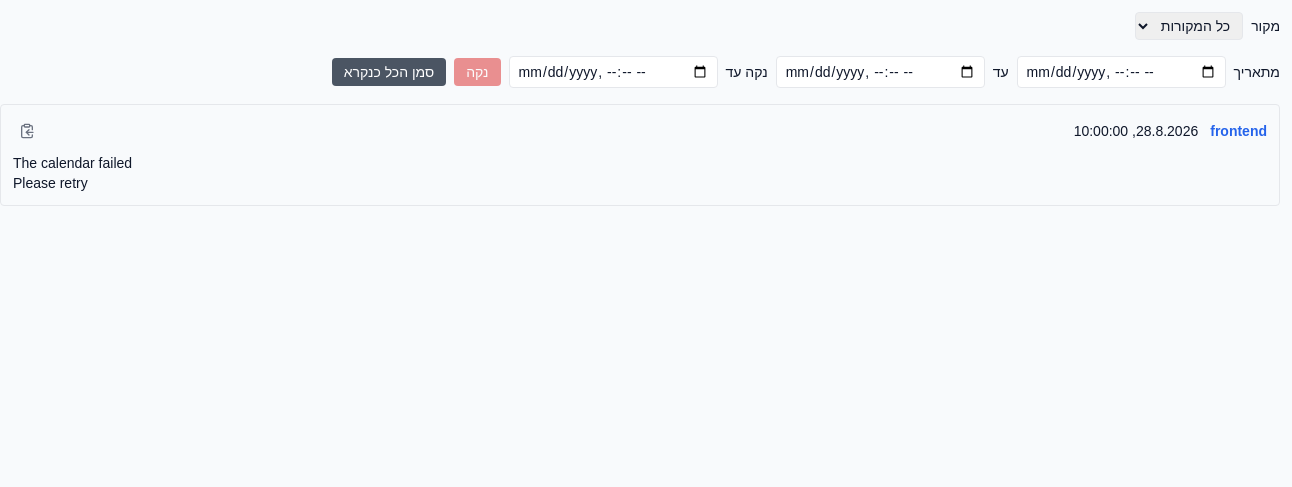
Test case: shows the frontend message before opening the error
The image size is (1292, 487).
Expected: the text "Frontend error" is not shown
Step 1. Click the text with test id "admin-error-message-trace-message" → (73, 173), box [13,155,132,191]
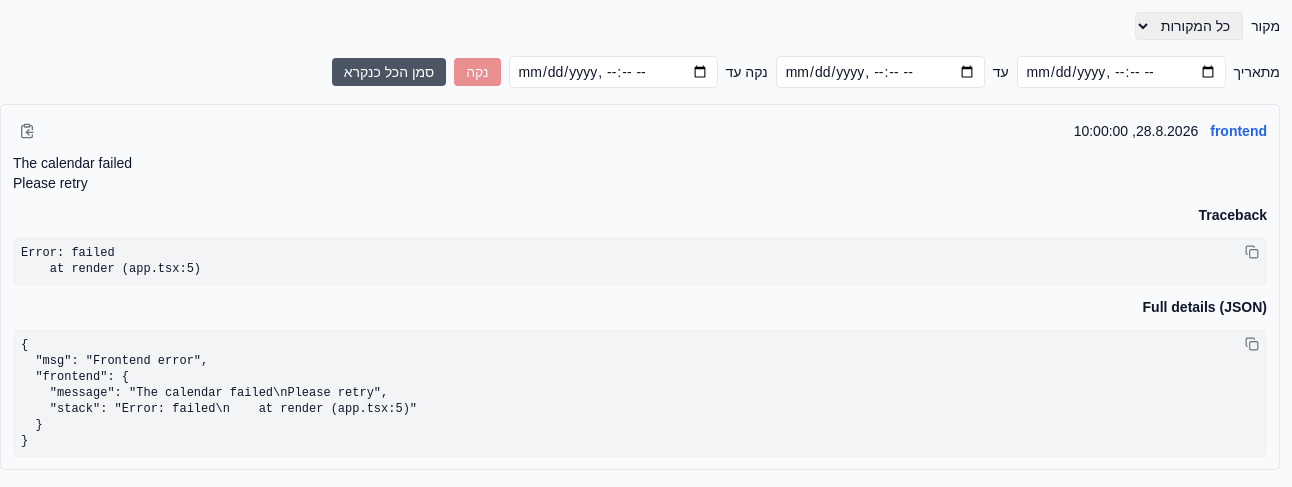
Expected: the text with test id "admin-error-stack-trace-message" shows "Error: failed", [21,246,201,276]
Step 2. Click the text with test id "admin-error-message-trace-message" → (73, 173), box [13,155,132,191]
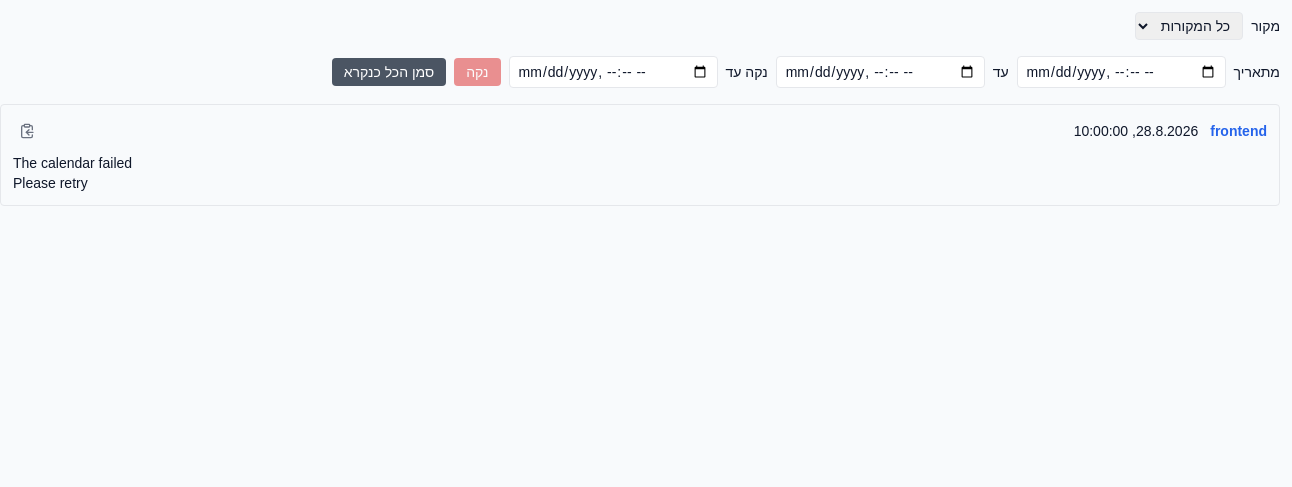
Expected: the text with test id "admin-error-stack-trace-message" is gone
